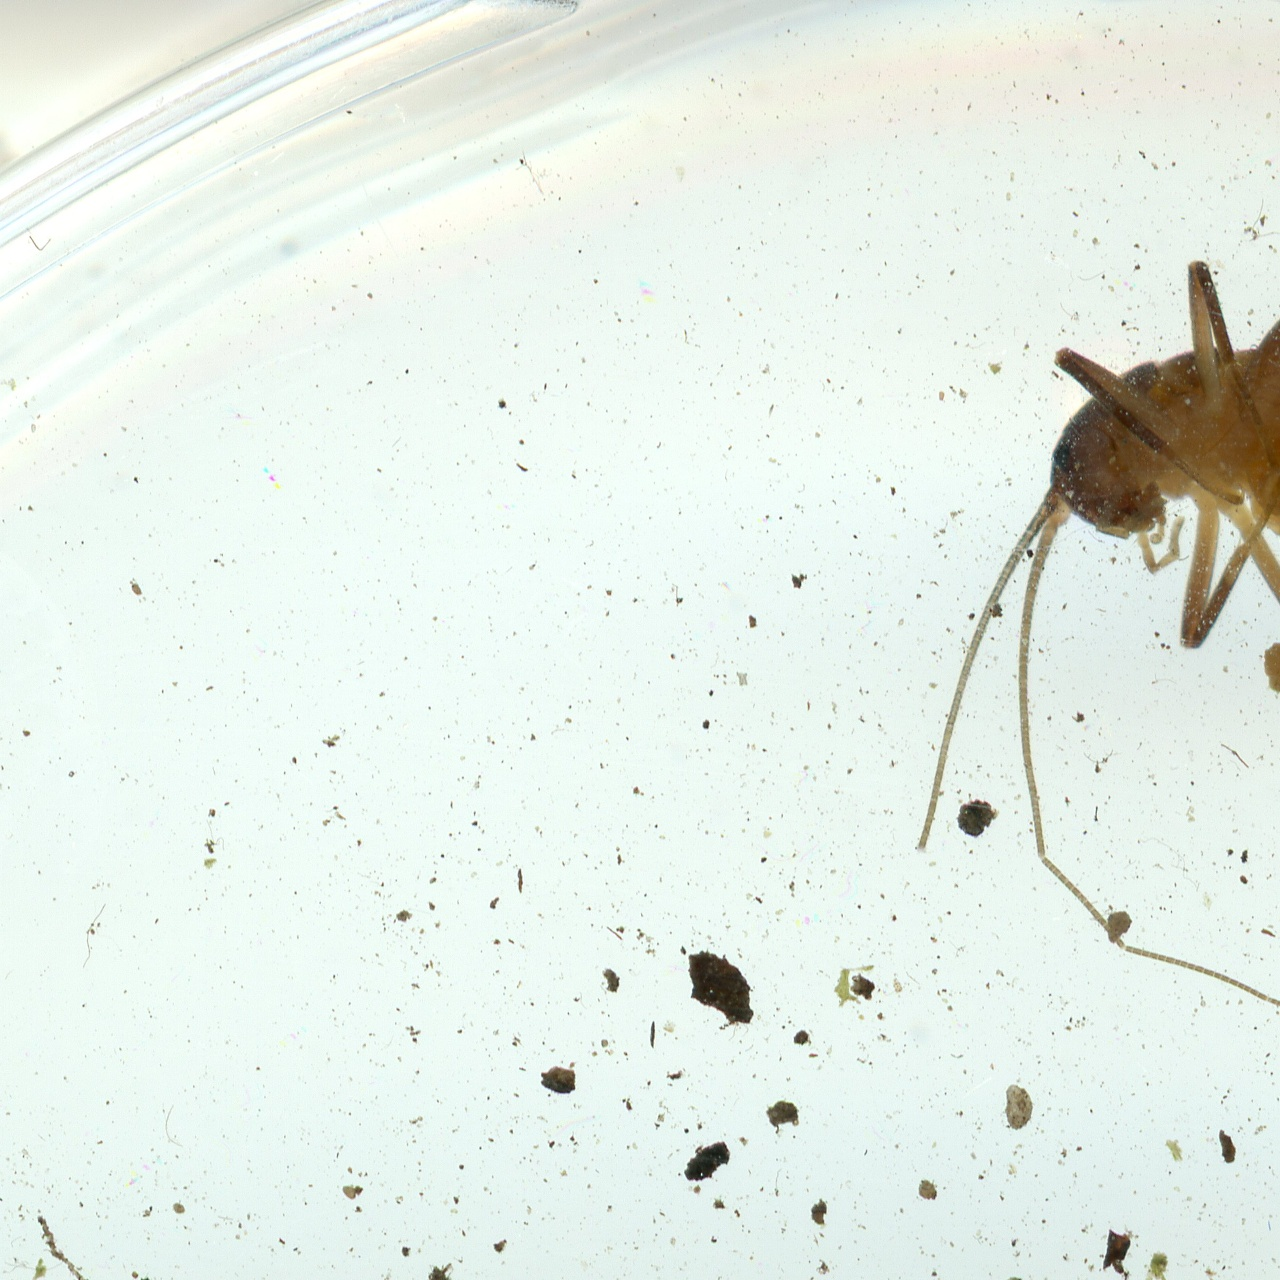arthropod: (903, 193, 1280, 1163), (911, 205, 1280, 1151)
